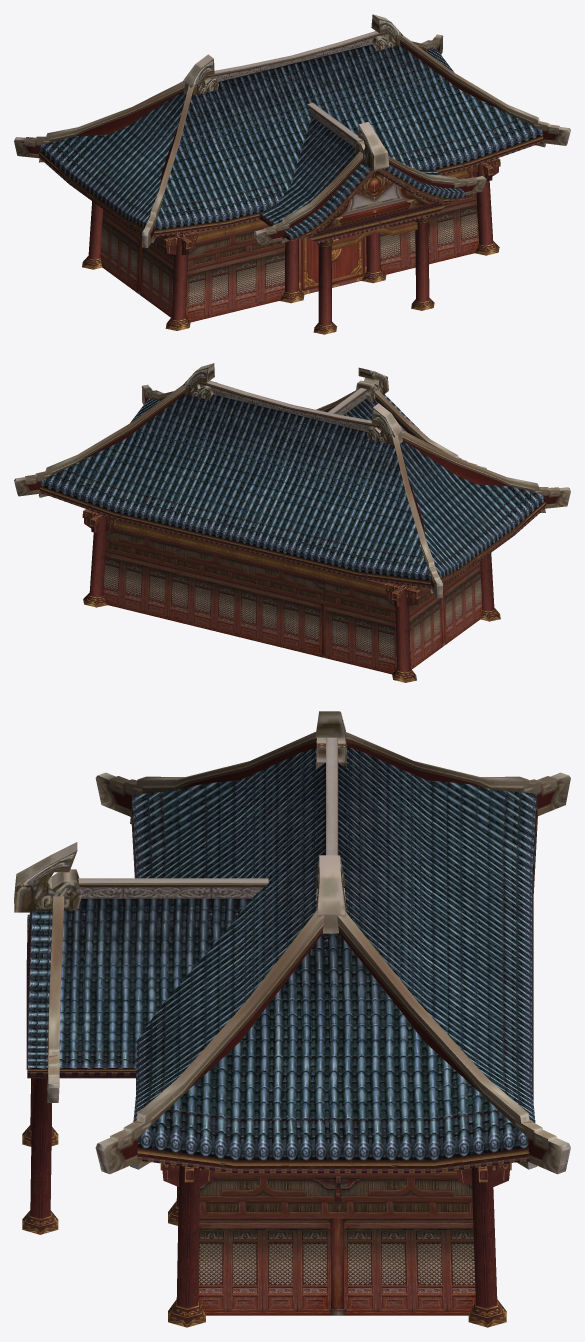
Rendered from cj_luoyang_jianzhua02_53_30_2363out.fbx.
3 views of the same model, one above another, from view 1: azimuth 30°, elevation 25°; view 2: azimuth 150°, elevation 25°; view 3: azimuth 270°, elevation 25° (orthographic). The views are drawn at different scales.
Parts seen in each view (by area): view 1: 0001_cj_luoyang_jianzhua02, 0000_cj_luoyang_jianzhua02; view 2: 0001_cj_luoyang_jianzhua02, 0000_cj_luoyang_jianzhua02; view 3: 0001_cj_luoyang_jianzhua02, 0000_cj_luoyang_jianzhua02.
Boxes of the visible parts, x1,y1,x2,y2 form: 0001_cj_luoyang_jianzhua02: (38, 31, 543, 243); 0000_cj_luoyang_jianzhua02: (14, 14, 570, 334); 0001_cj_luoyang_jianzhua02: (39, 380, 546, 587); 0000_cj_luoyang_jianzhua02: (14, 363, 570, 682); 0001_cj_luoyang_jianzhua02: (26, 737, 537, 1172); 0000_cj_luoyang_jianzhua02: (14, 711, 570, 1327).
Bounding box in the file's own units: 10.48 × 5.19 × 6.57.
